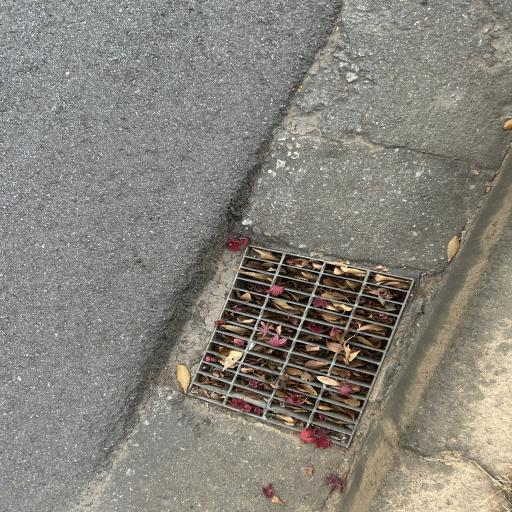debris: (299, 332, 379, 364), (258, 322, 296, 347), (287, 367, 326, 385), (276, 390, 315, 408), (356, 309, 395, 326), (242, 366, 278, 384), (324, 391, 362, 408), (280, 378, 318, 395), (312, 298, 352, 314), (268, 281, 313, 295), (301, 427, 331, 448), (310, 309, 347, 326), (292, 355, 329, 372), (245, 356, 282, 373), (328, 380, 367, 396), (320, 402, 356, 419), (267, 300, 305, 316), (238, 378, 273, 395), (229, 398, 264, 415), (332, 366, 365, 384), (317, 288, 356, 303), (307, 323, 343, 339), (217, 346, 242, 369), (283, 256, 323, 270), (369, 287, 398, 306), (323, 277, 362, 291), (351, 320, 385, 336), (297, 344, 331, 360), (347, 334, 382, 349), (282, 267, 319, 281), (253, 344, 285, 360), (376, 274, 410, 289), (268, 413, 301, 428), (246, 248, 281, 262), (360, 298, 395, 312), (265, 312, 300, 326), (221, 322, 251, 338), (206, 355, 239, 369), (277, 402, 310, 416), (199, 376, 230, 390), (219, 334, 247, 349), (238, 389, 267, 403), (318, 415, 349, 428), (333, 266, 367, 277), (241, 270, 271, 282), (228, 314, 255, 327), (195, 389, 224, 401), (237, 293, 265, 305), (209, 367, 234, 380), (247, 261, 276, 272), (234, 305, 260, 317), (277, 291, 305, 300), (249, 283, 267, 293)
drain: (185, 243, 416, 449)
